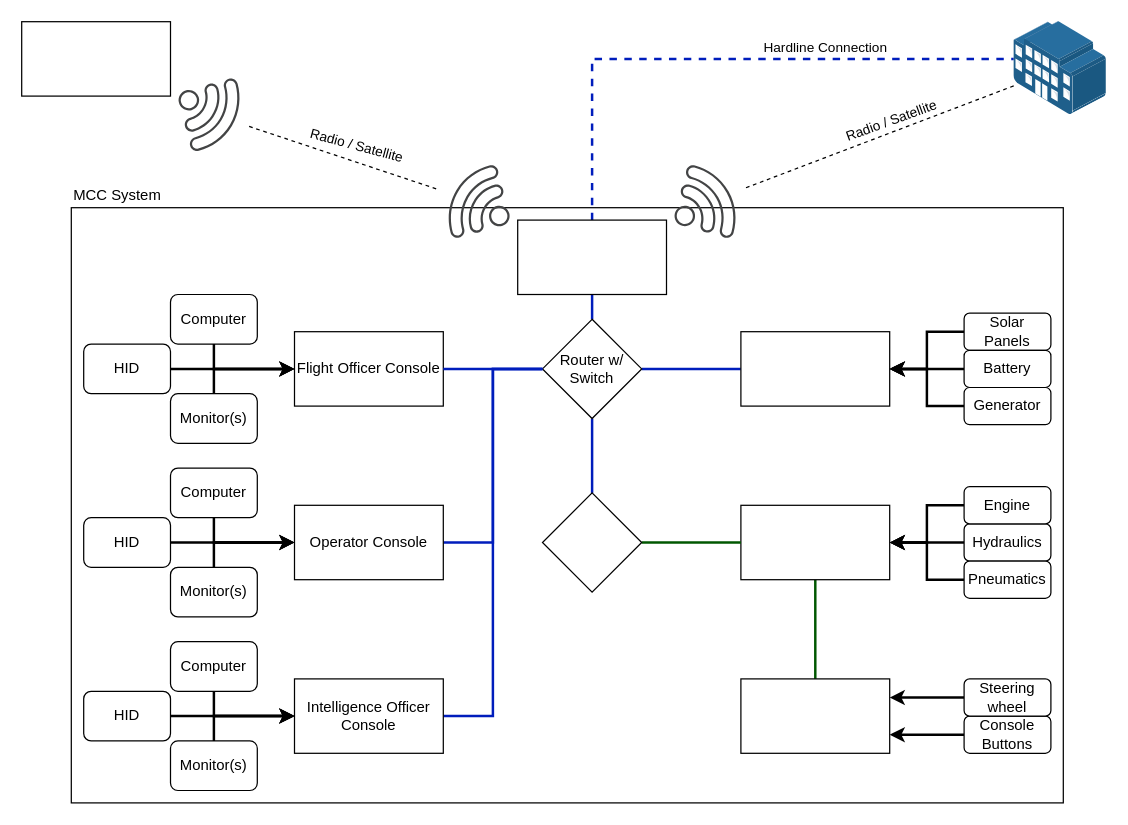
This 1128x825 diagram has some shape labels left out. The centre of each missing label's shape, as x and y in pixels:
"Autonomous Unmanned Aerial Vehicle (AUAV)" belongs at point 95,58.
"CAN to IP Gateway" belongs at point 591,542.
"Communications" belongs at point 591,256.
"Driver Station" belongs at point 815,715.
"Power Mangagement" belongs at point 815,368.
"Vehicle Controller" belongs at point 815,542.
